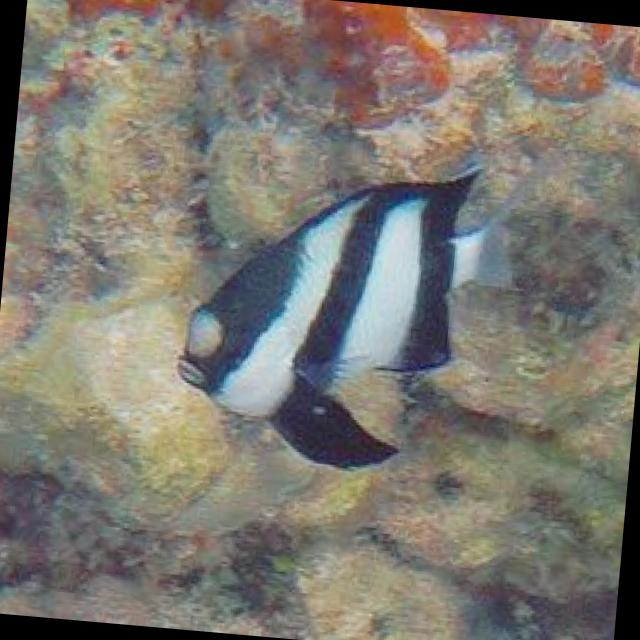ThreeStripedDamselfish: (177, 175, 513, 473)
